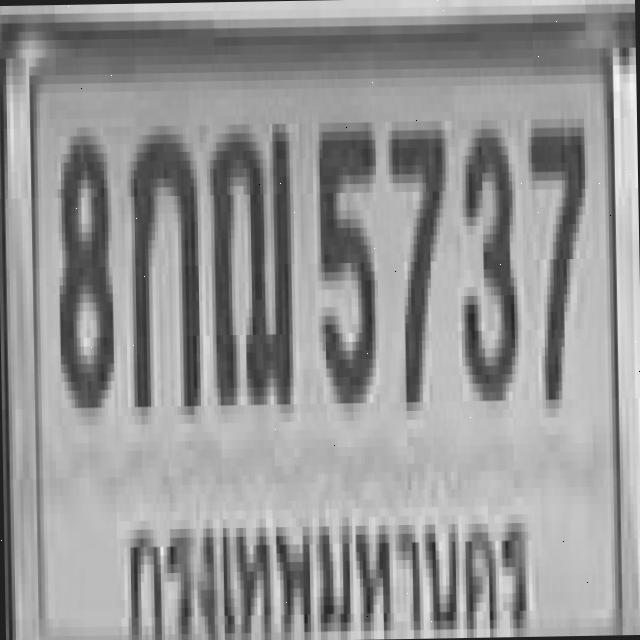10GorGai: (126, 125, 197, 407)
21ChorChoe: (204, 114, 292, 406)
3: (458, 119, 516, 392)
5: (314, 109, 376, 398)
7: (384, 121, 446, 402), (527, 118, 585, 400)
8: (53, 126, 111, 399)
Bangkok: (108, 472, 537, 640)
